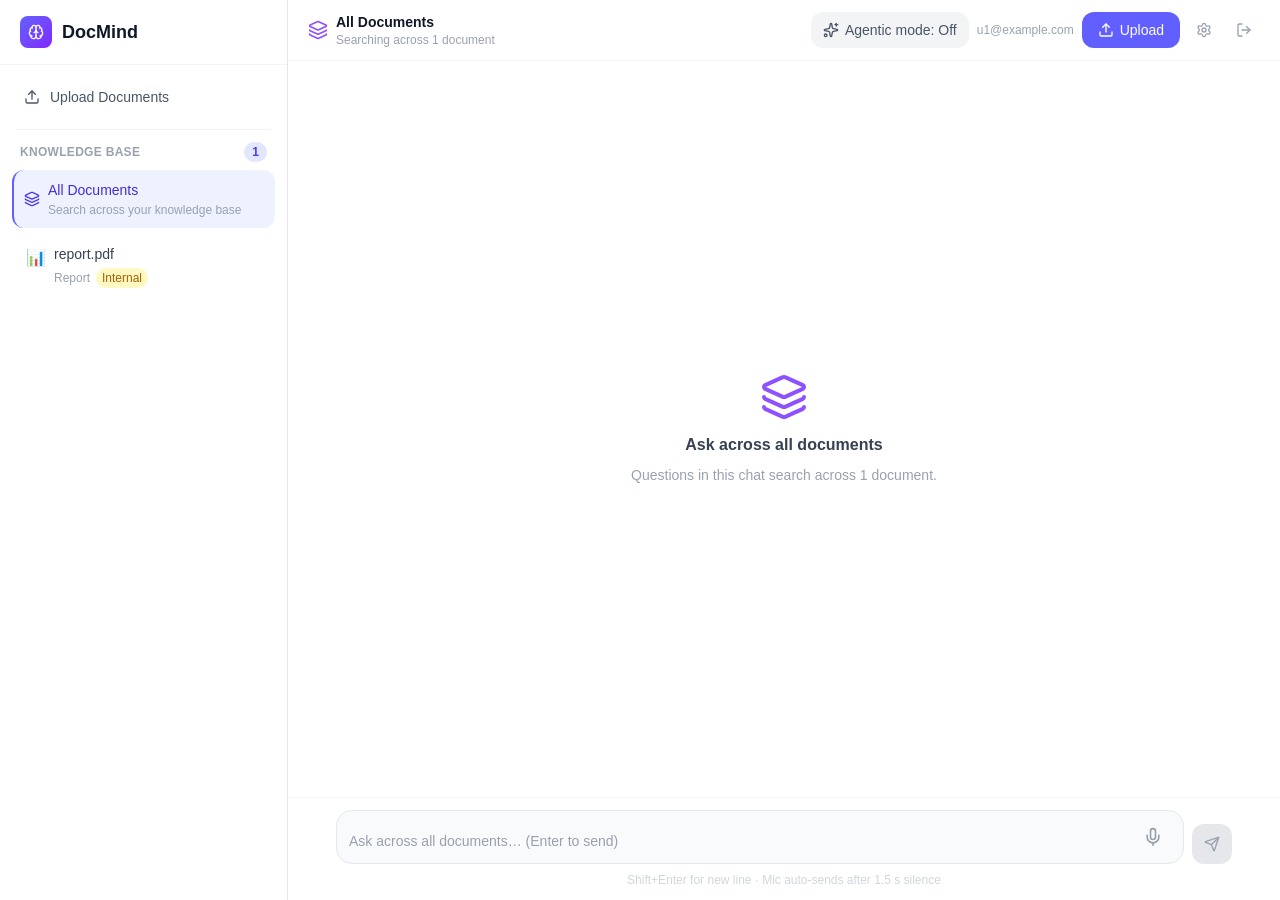
Scenario: service errors in chat › shows the daily-budget message when the evidence timeline is refused with 429
What coordinates should you click on to do the following:
click the text "report.pdf"
I would click on:
 (84, 254)
Its box is 54,246 -> 114,262.
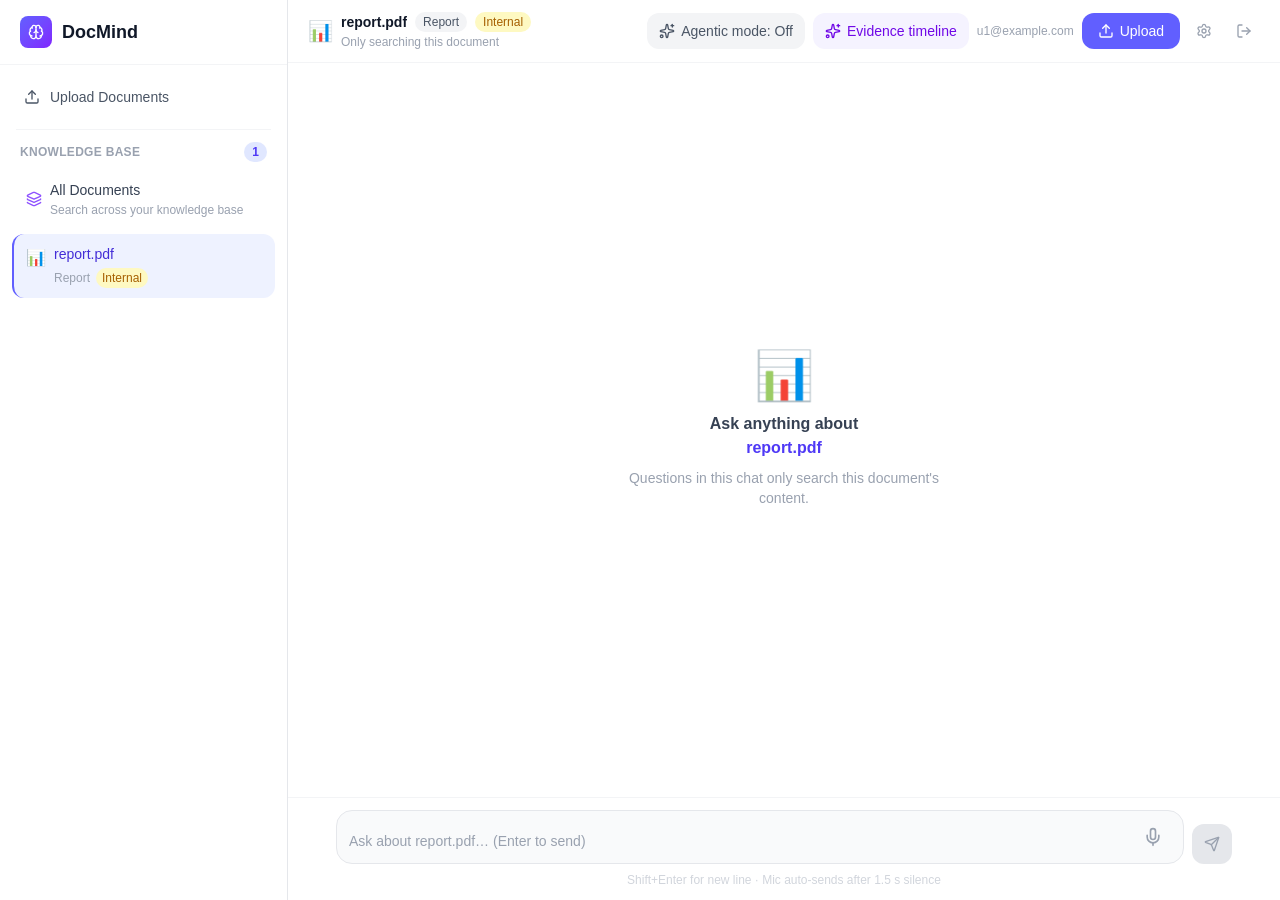
What coordinates should you click on to do the following:
click the button "Evidence timeline"
I would click on:
 (891, 31)
Its box is 813,13 -> 969,49.
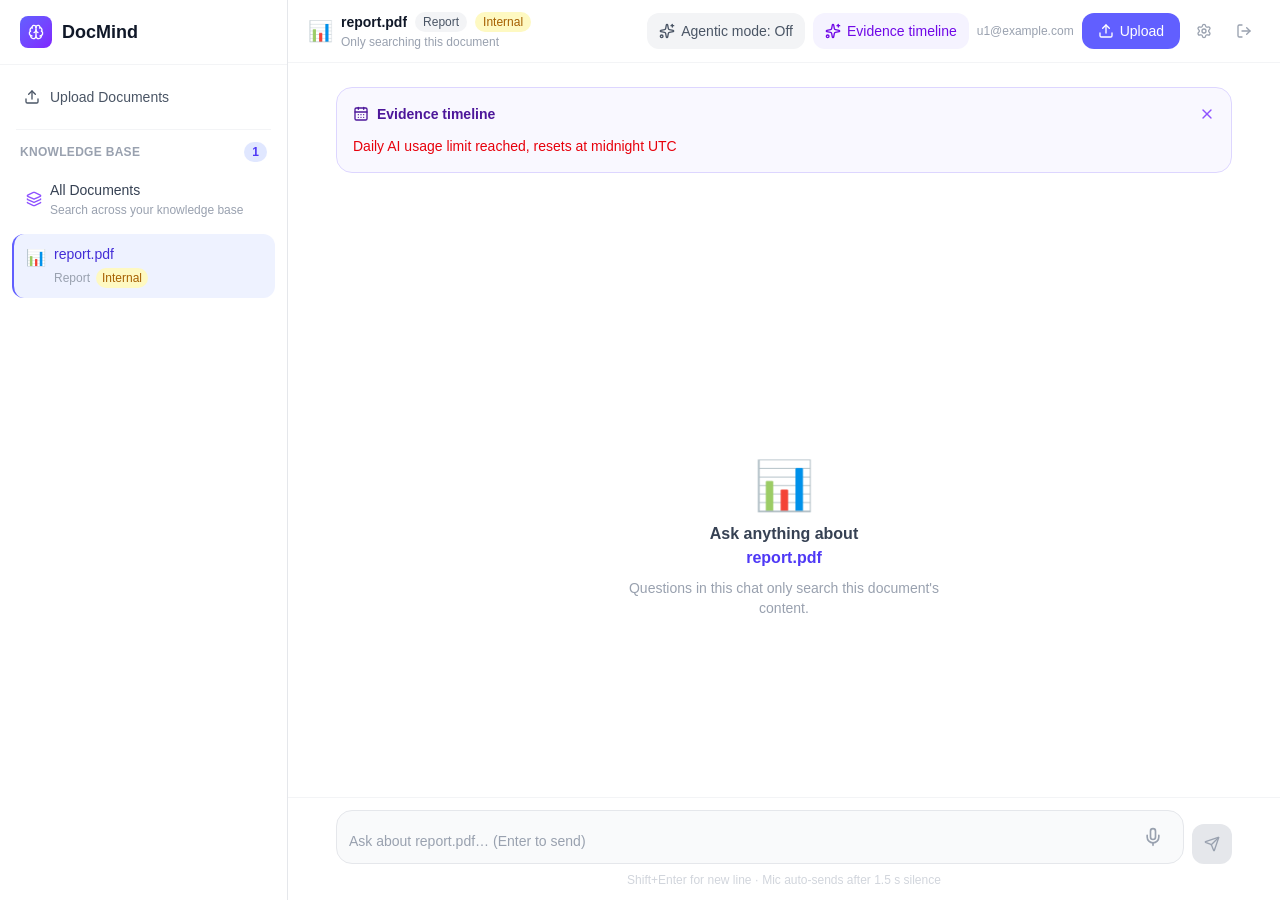
Expected: the text "Daily AI usage limit reached, resets at midnight UTC" is shown, 353,138 -> 677,154
